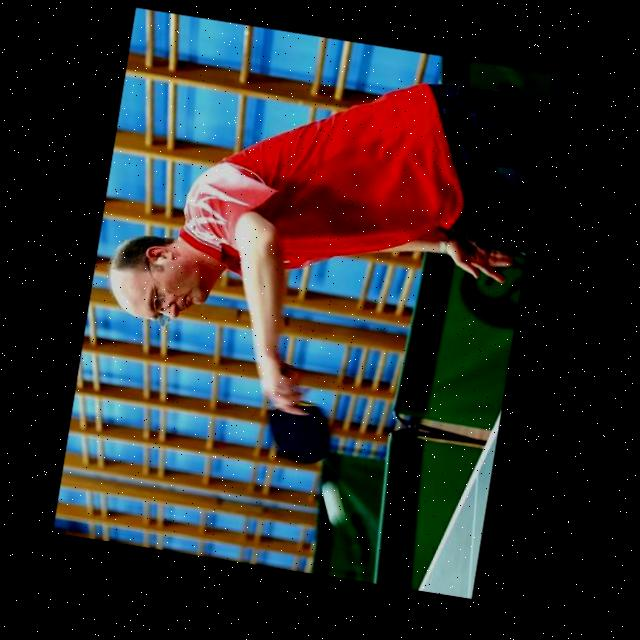ping-pong-ball: (316, 479, 353, 527)
